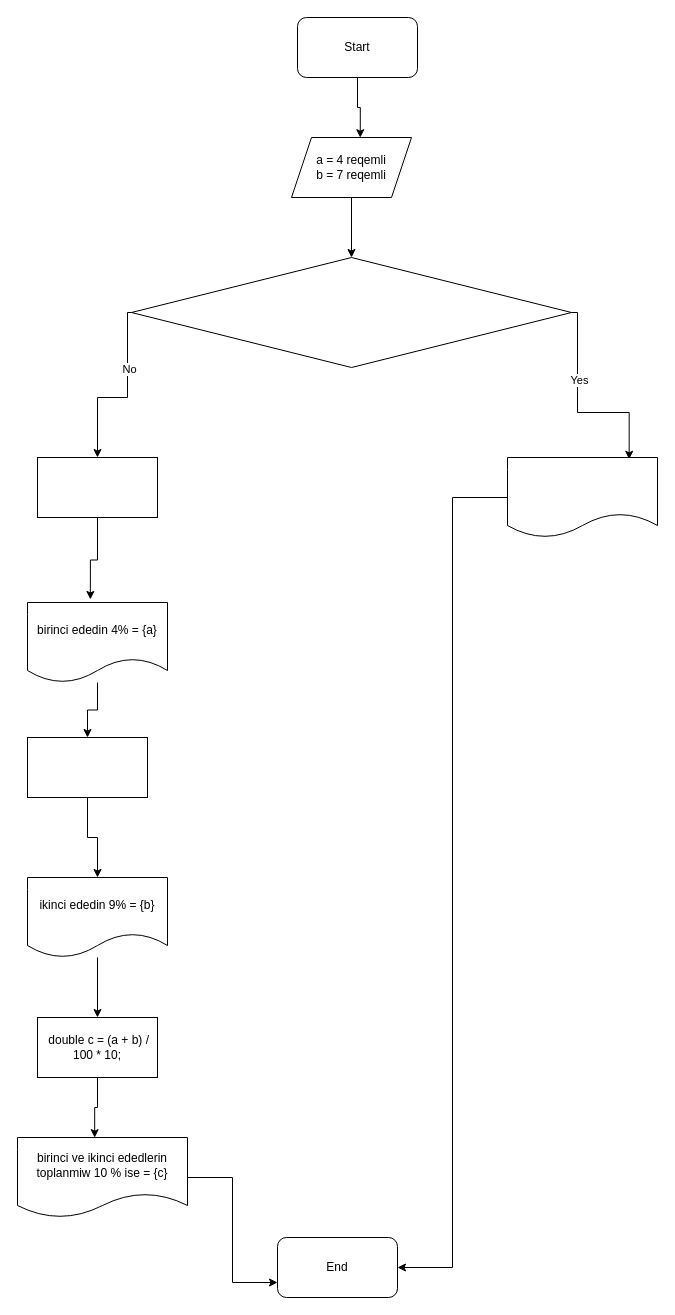
The diagram is 675 pixels wide and 1315 high, and some of its shapes have lost their labels. The centre of each missing label's shape, as x and y in pixels:
"a < 1000 || a >= 10000 || b < 1000000 || b >= 10000000" belongs at point 351,312.
"a = a / 100 * 4;" belongs at point 97,487.
"b = b / 100 * 9;" belongs at point 87,767.
"yazdiqiniz 4 ve ya 7 reqemli eded deyil" belongs at point 582,497.
